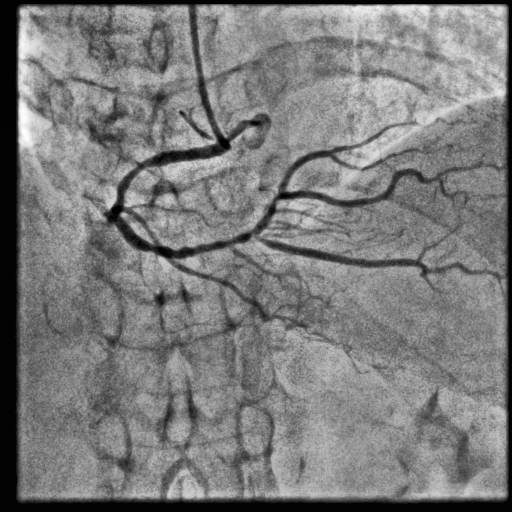pborca: (254, 149, 339, 234)
pda: (255, 235, 503, 284)
rca: (104, 140, 260, 259)
